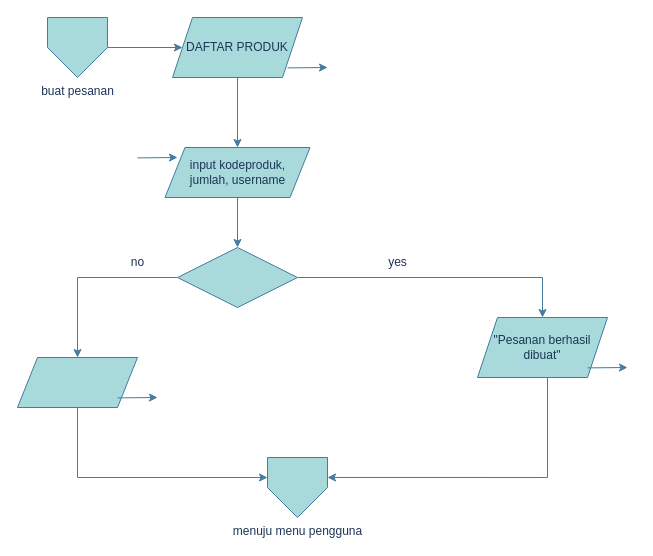
Image size: 653x556. Some labels were removed from this diagram. Each missing label, with the centre of its shape:
"Stok tidak valid": the point at 77,382
in stok: the point at 237,277
